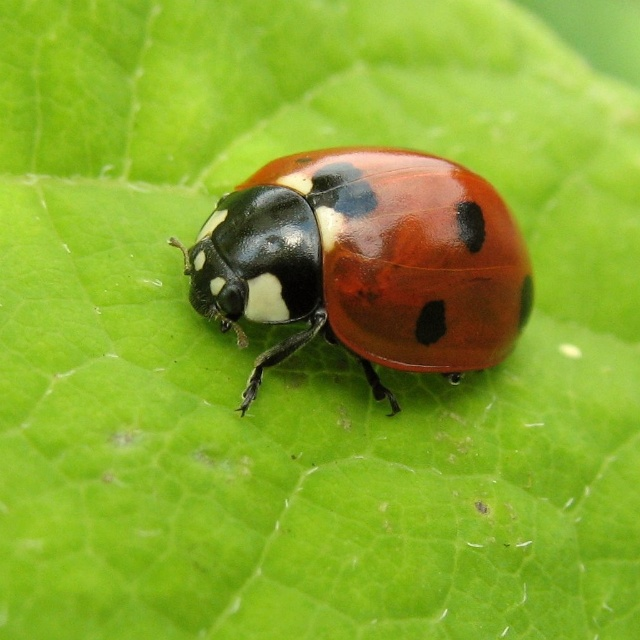Ladybug: (166, 145, 541, 414)
